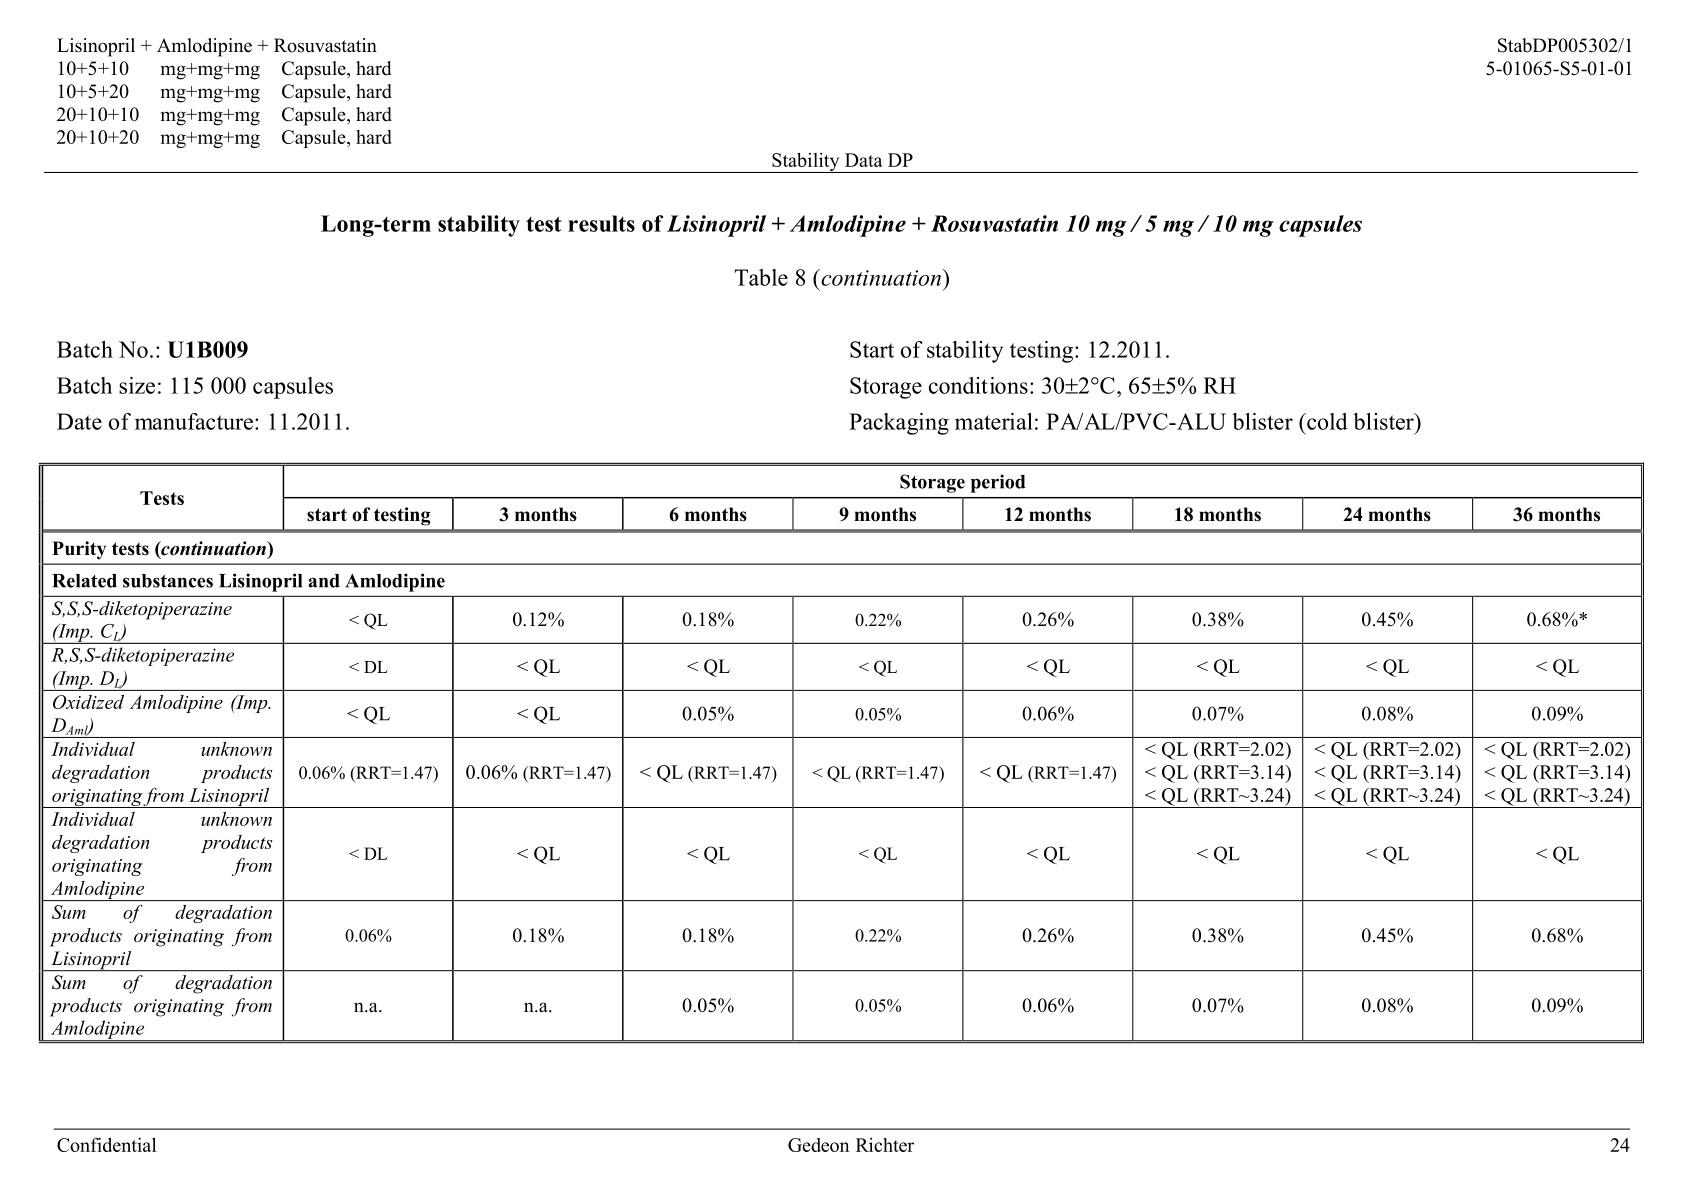merged_cells: (37, 461, 1645, 1044)
